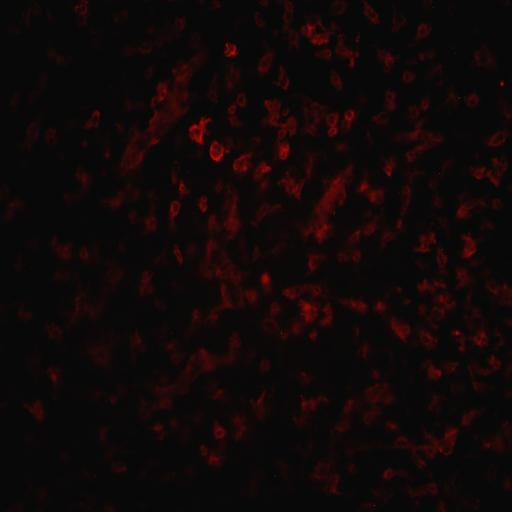microglia: (312, 176, 350, 221), (221, 196, 243, 236), (278, 169, 304, 199), (472, 42, 498, 70), (196, 347, 218, 376), (3, 196, 25, 224), (229, 414, 248, 440), (24, 400, 46, 422), (138, 270, 155, 298), (460, 232, 478, 258), (389, 318, 410, 340), (257, 50, 275, 74), (44, 322, 64, 343), (306, 253, 326, 274), (298, 300, 317, 322), (278, 116, 298, 136), (390, 8, 406, 33), (73, 166, 92, 187), (362, 2, 380, 24), (252, 204, 282, 217), (28, 116, 39, 151), (335, 34, 351, 58), (400, 185, 412, 216), (412, 233, 430, 253), (259, 318, 281, 334), (317, 304, 333, 326), (106, 188, 122, 210), (366, 186, 385, 204), (84, 109, 101, 129), (314, 223, 330, 244), (206, 237, 218, 265), (488, 130, 507, 147), (454, 203, 474, 219), (44, 125, 59, 146), (435, 295, 456, 310), (226, 63, 238, 89), (254, 161, 271, 179), (329, 0, 347, 17), (418, 330, 435, 348), (427, 307, 444, 325), (174, 15, 190, 34), (491, 152, 510, 168), (189, 124, 204, 144), (209, 142, 224, 162), (46, 367, 60, 388), (463, 90, 479, 108), (298, 369, 314, 387), (304, 283, 323, 298), (154, 82, 168, 102), (329, 70, 342, 91), (228, 331, 241, 352), (416, 22, 432, 39), (473, 330, 488, 348), (281, 284, 300, 298), (171, 103, 185, 122), (282, 2, 294, 24), (310, 33, 330, 46), (469, 162, 485, 178), (344, 110, 358, 128), (458, 411, 476, 425), (456, 269, 470, 287), (444, 360, 458, 378), (494, 430, 504, 455), (144, 214, 157, 233), (436, 248, 448, 268), (302, 23, 317, 39), (426, 365, 442, 380), (210, 82, 222, 102), (277, 142, 290, 160), (140, 39, 153, 57), (503, 470, 512, 496), (485, 465, 498, 483), (488, 169, 500, 188), (382, 52, 396, 68), (233, 156, 247, 172), (227, 114, 243, 128), (207, 451, 223, 465), (418, 278, 432, 294), (314, 48, 331, 61), (213, 422, 226, 439), (348, 226, 361, 243), (170, 71, 190, 82), (404, 71, 416, 89), (244, 289, 258, 304), (224, 42, 238, 57), (207, 214, 218, 233), (382, 161, 395, 177), (254, 12, 266, 29), (360, 502, 380, 512), (344, 397, 355, 415), (111, 460, 126, 473), (188, 308, 200, 324), (352, 248, 364, 264), (173, 245, 183, 264), (169, 201, 180, 218), (490, 198, 504, 211), (230, 272, 243, 286), (380, 232, 393, 246), (148, 135, 161, 149), (98, 426, 109, 442), (158, 398, 174, 409), (334, 144, 350, 155), (198, 195, 208, 212), (364, 223, 377, 236), (148, 114, 161, 127), (374, 112, 388, 124), (156, 386, 177, 394), (486, 281, 498, 295), (482, 218, 494, 232), (170, 169, 179, 187), (406, 108, 422, 118), (76, 12, 87, 26), (342, 299, 356, 310), (270, 301, 280, 316), (358, 299, 368, 314), (354, 30, 364, 45), (328, 127, 340, 139), (208, 312, 220, 324), (215, 264, 224, 280), (255, 392, 267, 404), (291, 324, 303, 336), (306, 158, 314, 176), (432, 196, 444, 208), (382, 468, 395, 479), (327, 111, 337, 125), (79, 247, 89, 261), (260, 358, 270, 372), (131, 332, 141, 346), (223, 298, 233, 312), (420, 98, 430, 112), (358, 346, 372, 356), (359, 180, 369, 194), (254, 246, 262, 263), (386, 91, 398, 102), (375, 300, 386, 312), (152, 422, 163, 434), (433, 280, 446, 290), (212, 390, 223, 401), (204, 268, 214, 280), (308, 398, 316, 413), (408, 147, 416, 162), (336, 196, 346, 208), (444, 428, 458, 436), (256, 406, 266, 417), (387, 421, 397, 432), (417, 458, 428, 468), (428, 232, 438, 243), (179, 183, 188, 195), (237, 94, 246, 106), (261, 272, 270, 284), (302, 397, 308, 415), (352, 328, 364, 337), (419, 49, 426, 64), (184, 364, 192, 377), (485, 439, 493, 452), (332, 474, 342, 484), (346, 57, 356, 67), (351, 48, 360, 59), (216, 182, 225, 193), (328, 486, 340, 494), (458, 344, 466, 356), (395, 218, 403, 230), (370, 370, 382, 378), (318, 395, 328, 404), (180, 63, 190, 72), (180, 91, 190, 100), (166, 342, 177, 350), (416, 131, 424, 142), (503, 281, 510, 293), (200, 446, 208, 456), (309, 330, 317, 340), (430, 484, 438, 494), (506, 316, 512, 329), (220, 284, 226, 296), (74, 303, 80, 315), (223, 355, 235, 361), (337, 423, 345, 432), (370, 396, 379, 404), (146, 68, 152, 80), (314, 473, 324, 480), (386, 395, 393, 405), (228, 106, 236, 114), (449, 438, 457, 446), (281, 332, 289, 340), (330, 208, 338, 216), (369, 409, 378, 416), (170, 419, 177, 428), (495, 360, 500, 372), (419, 304, 425, 314), (110, 396, 117, 404), (188, 355, 196, 362), (396, 286, 403, 294), (428, 52, 434, 61), (398, 436, 408, 441), (388, 103, 396, 109), (90, 310, 96, 318), (366, 387, 374, 393), (250, 400, 255, 408), (454, 330, 460, 336), (440, 506, 446, 512), (404, 298, 410, 304), (84, 305, 88, 313), (490, 356, 494, 364), (75, 296, 80, 302), (374, 383, 380, 388), (432, 396, 438, 401), (438, 447, 443, 452), (81, 292, 85, 297)
